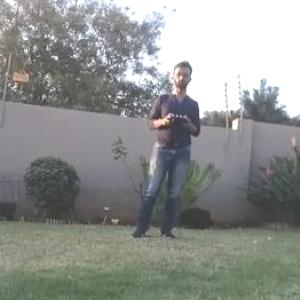follow: (125, 52, 202, 241)
